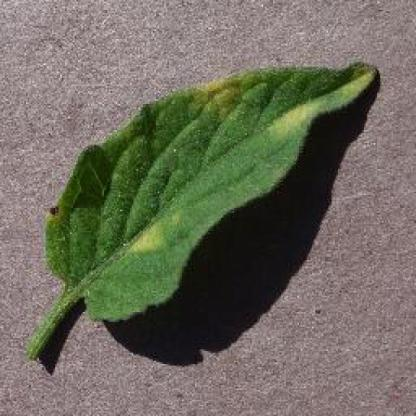Tomato_Leaf_Mold: (47, 62, 379, 316)
